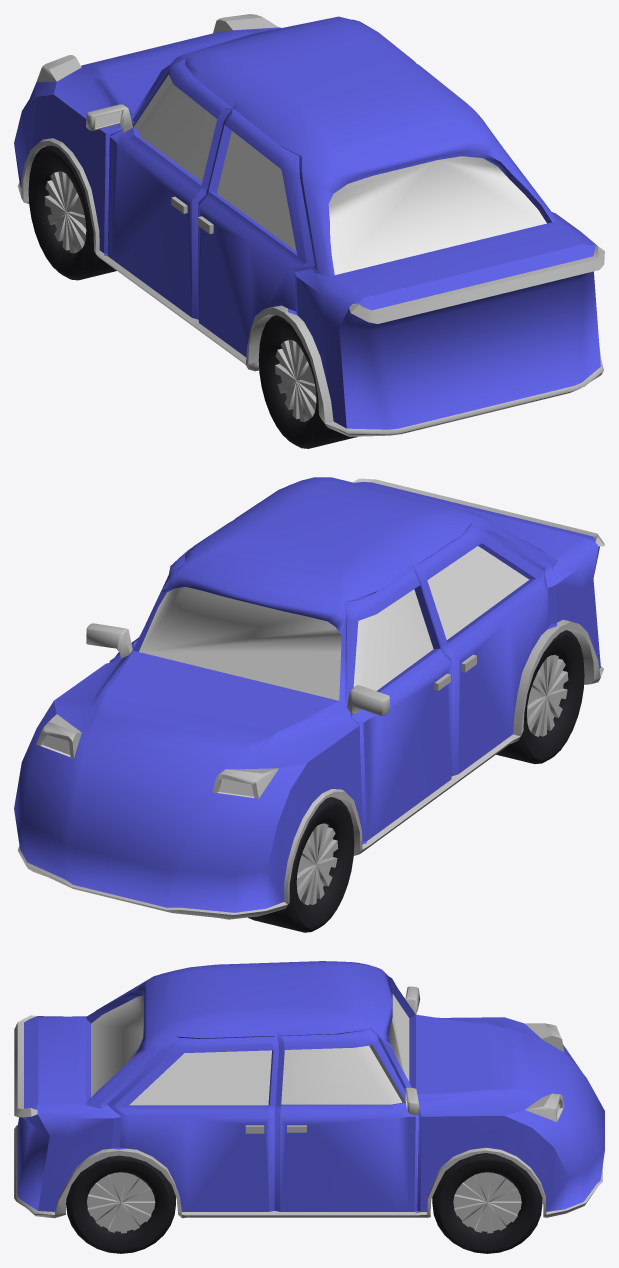
File: ARABAsmooth.fbx
3 views of the same model, one above another, from view 1: azimuth 30°, elevation 25°; view 2: azimuth 150°, elevation 25°; view 3: azimuth 270°, elevation 25° (orthographic). The views are drawn at different scales.
Visible parts, largest first — view 1: Cube; view 2: Cube; view 3: Cube.
Part boxes in pixels (<box>): Cube: <box>14,14,604,448</box>; Cube: <box>14,477,604,932</box>; Cube: <box>14,961,604,1253</box>.
Bounding box in the file's own units: 1457 × 1265 × 3119.
